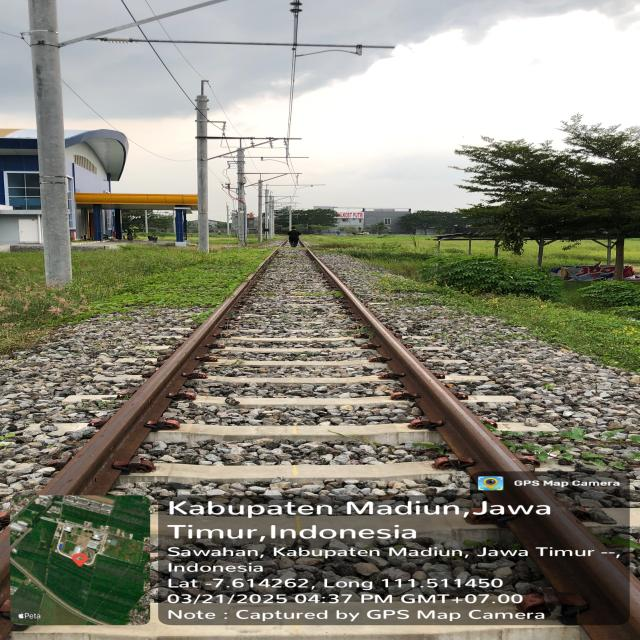rail-detection: (306, 251, 640, 640), (40, 282, 252, 495)
